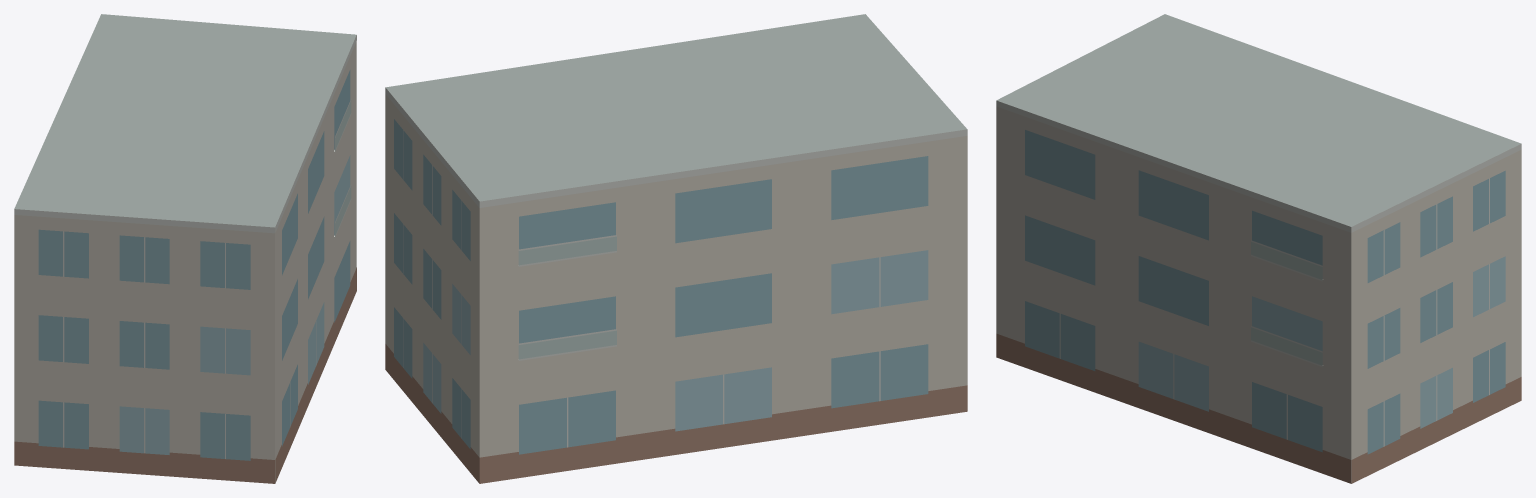
The model's file is survey-upis-32716200.glb.
The picture shows the model from 3 angles, left to right: view 1: azimuth 30°, elevation 25°; view 2: azimuth 150°, elevation 25°; view 3: azimuth 270°, elevation 25°; orthographic projection. The views are drawn at different scales.
Visible parts, largest first — view 1: survey-upis-32716200.tmp; view 2: survey-upis-32716200.tmp; view 3: survey-upis-32716200.tmp.
Part boxes in pixels (bbox=[...]): survey-upis-32716200.tmp: bbox=[14, 14, 356, 483]; survey-upis-32716200.tmp: bbox=[385, 14, 967, 483]; survey-upis-32716200.tmp: bbox=[996, 14, 1521, 483].
Size of the model in its own units: 18.93 by 10.64 by 19.73.
